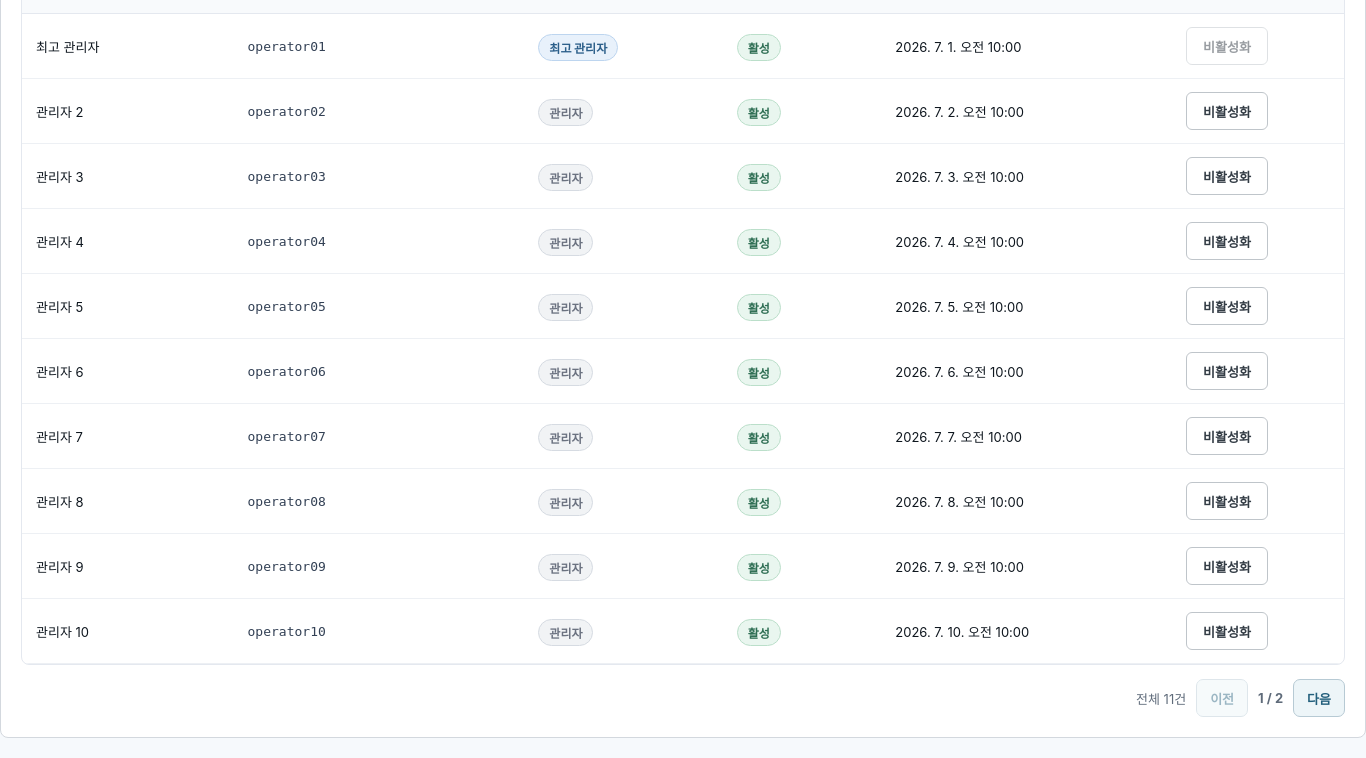
UsersView › 실제 관리자 목록을 표시하고 클라이언트 페이지네이션을 적용한다
(page scrolled)
Check: the text "operator11" is not shown
What coordinates should you click on to do the following:
click the button "다음"
I would click on:
 (1319, 698)
Its box is [1293,679,1345,717].
(page scrolled)
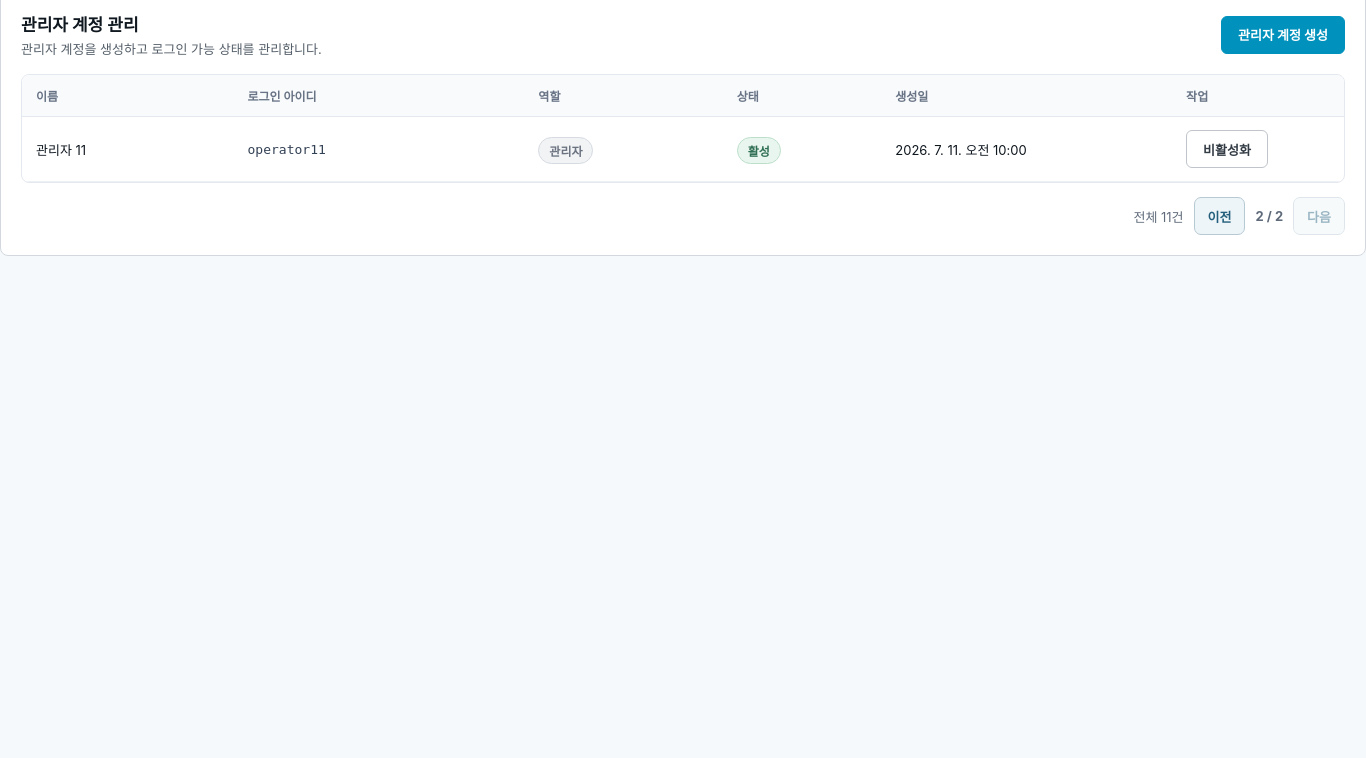
Check: the text "operator11" is shown, box [234,116,524,182]
